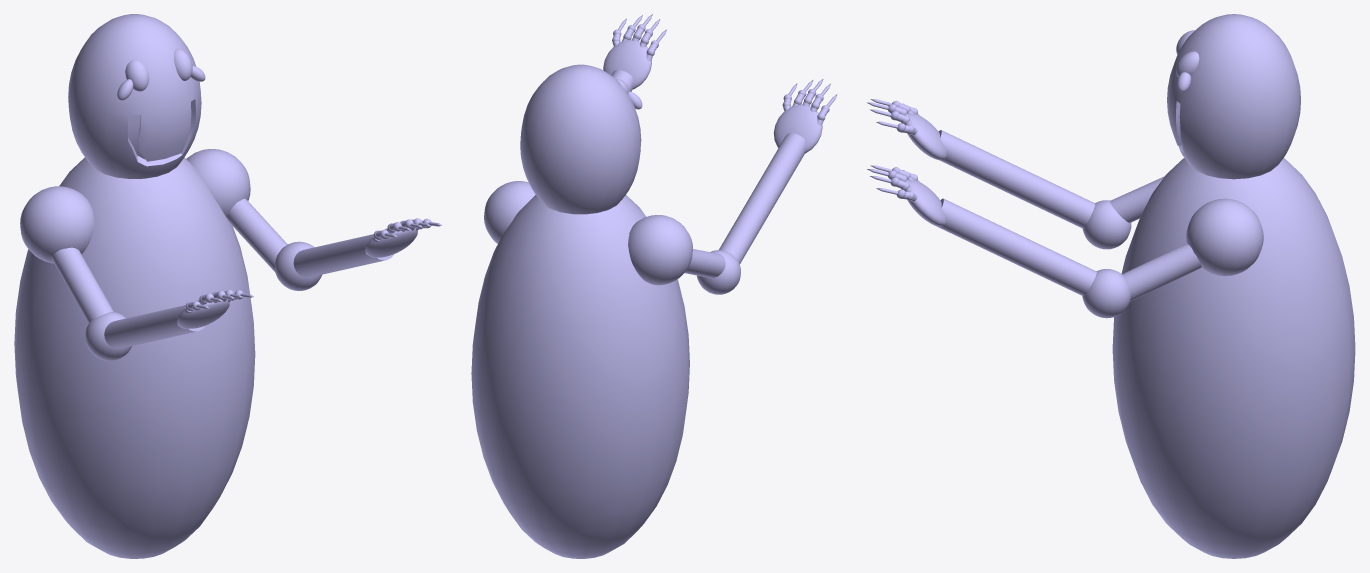
The model's file is GhostUVDepressed.FBX.
The picture shows the model from 3 angles, left to right: view 1: azimuth 30°, elevation 25°; view 2: azimuth 150°, elevation 25°; view 3: azimuth 270°, elevation 25°; orthographic projection. The views are drawn at different scales.
Visible parts, largest first — view 1: Ghost_Depressed_UV_New; view 2: Ghost_Depressed_UV_New; view 3: Ghost_Depressed_UV_New.
Part boxes in pixels (left/top/right/bottom): Ghost_Depressed_UV_New: left=14, top=14, right=442, bottom=558; Ghost_Depressed_UV_New: left=471, top=14, right=837, bottom=558; Ghost_Depressed_UV_New: left=867, top=14, right=1355, bottom=558.
Size of what is drawn, in the model's own units: 15.25 by 26.43 by 31.87.
